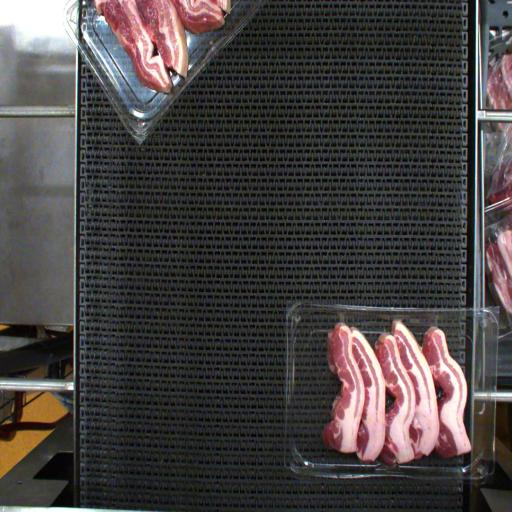packaging-error: (333, 306, 352, 330)
